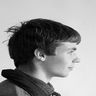ear: (30, 44, 50, 65)
